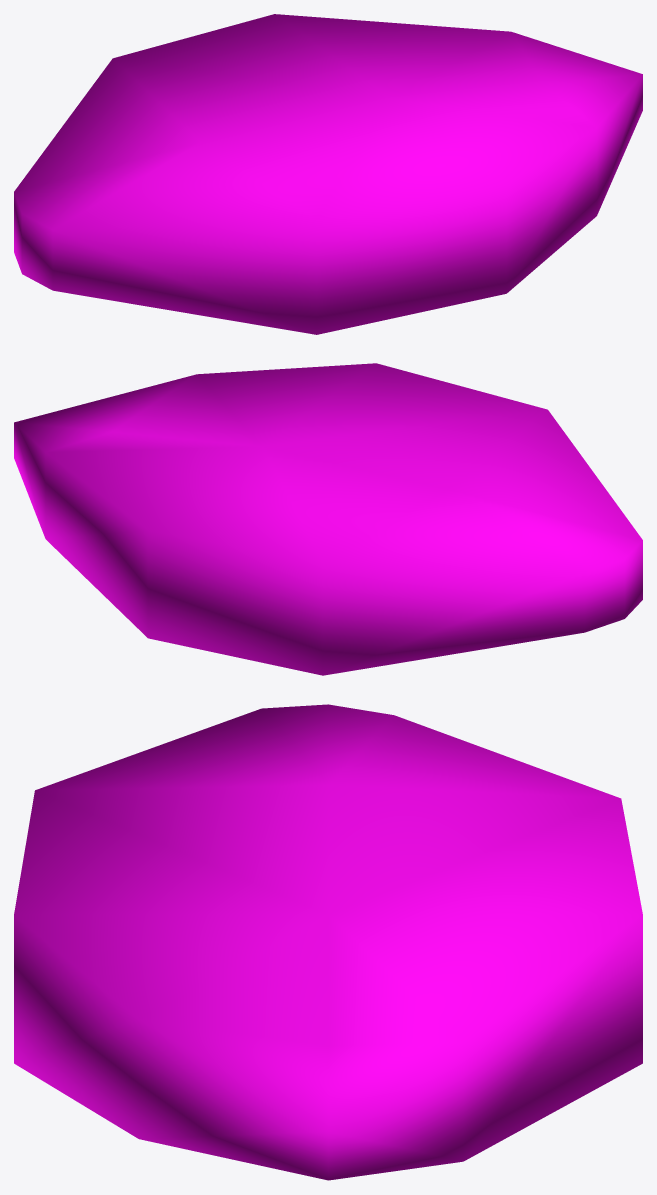
File: fish_smoked_meshCollider.fbx
The picture shows the model from 3 angles, top to bottom: view 1: azimuth 30°, elevation 25°; view 2: azimuth 150°, elevation 25°; view 3: azimuth 270°, elevation 25°; orthographic projection. The views are drawn at different scales.
Parts seen in each view (by area): view 1: foods_fish_smoked_meshCollider; view 2: foods_fish_smoked_meshCollider; view 3: foods_fish_smoked_meshCollider.
Boxes of the visible parts, <box> form: foods_fish_smoked_meshCollider: <box>14,14,642,334</box>; foods_fish_smoked_meshCollider: <box>14,363,642,675</box>; foods_fish_smoked_meshCollider: <box>14,704,642,1180</box>.
Bounding box in the file's own units: 21.24 × 3.76 × 13.76.
